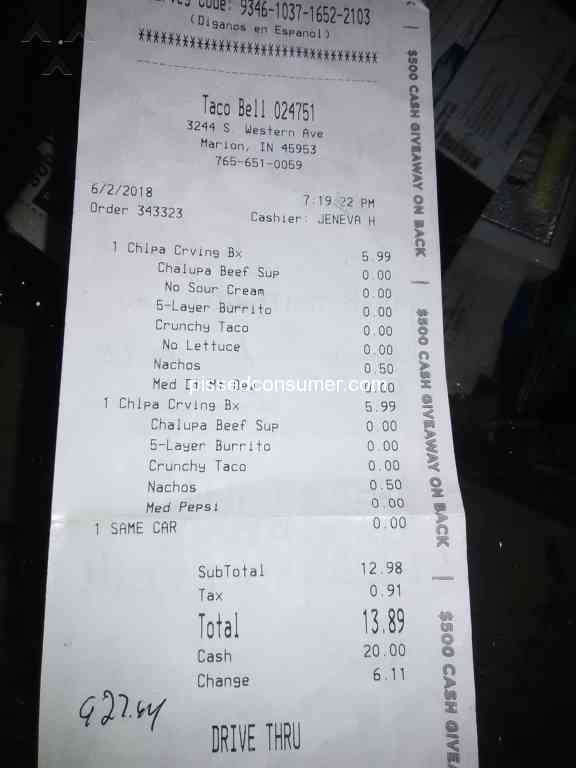Taco Bell: (200, 84, 274, 121)
